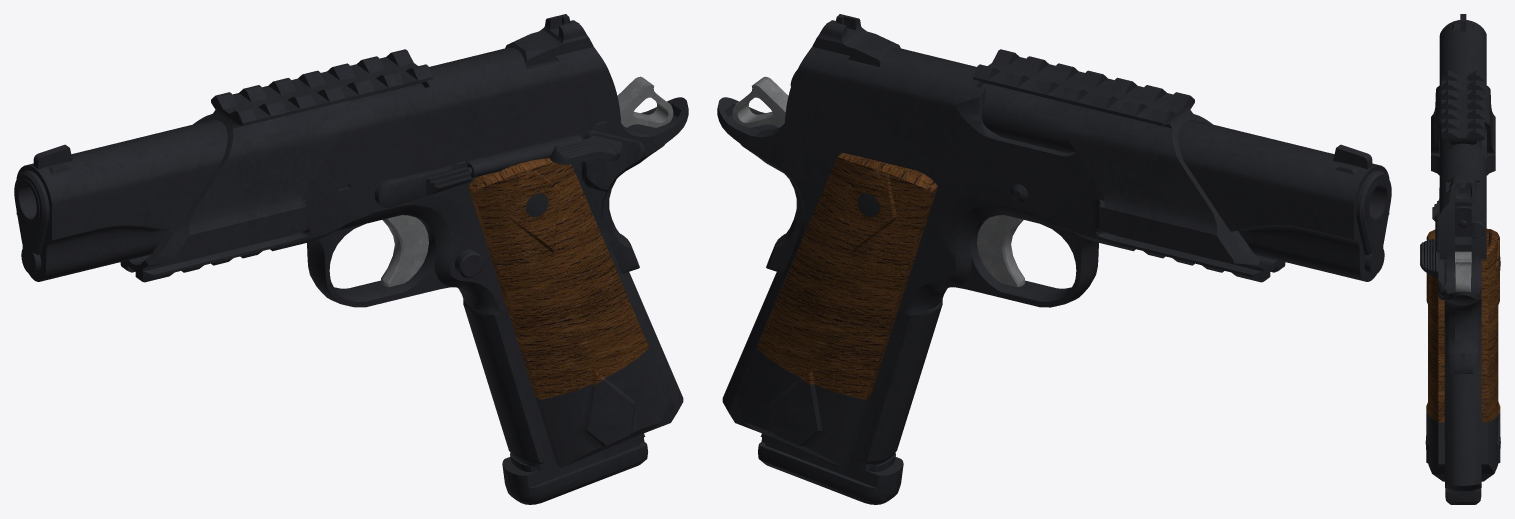
3 views of the same model, side by side, from view 1: azimuth 30°, elevation 25°; view 2: azimuth 150°, elevation 25°; view 3: azimuth 270°, elevation 25° (orthographic). The views are drawn at different scales.
Visible parts, largest first — view 1: m1911; view 2: m1911; view 3: m1911.
Part boxes in pixels (bbox=[...]): m1911: bbox=[14, 14, 688, 504]; m1911: bbox=[717, 14, 1391, 504]; m1911: bbox=[1420, 14, 1500, 504].
Size of the model in its own units: 0.216 by 0.1475 by 0.0344.
3 materials, 3 textured.
